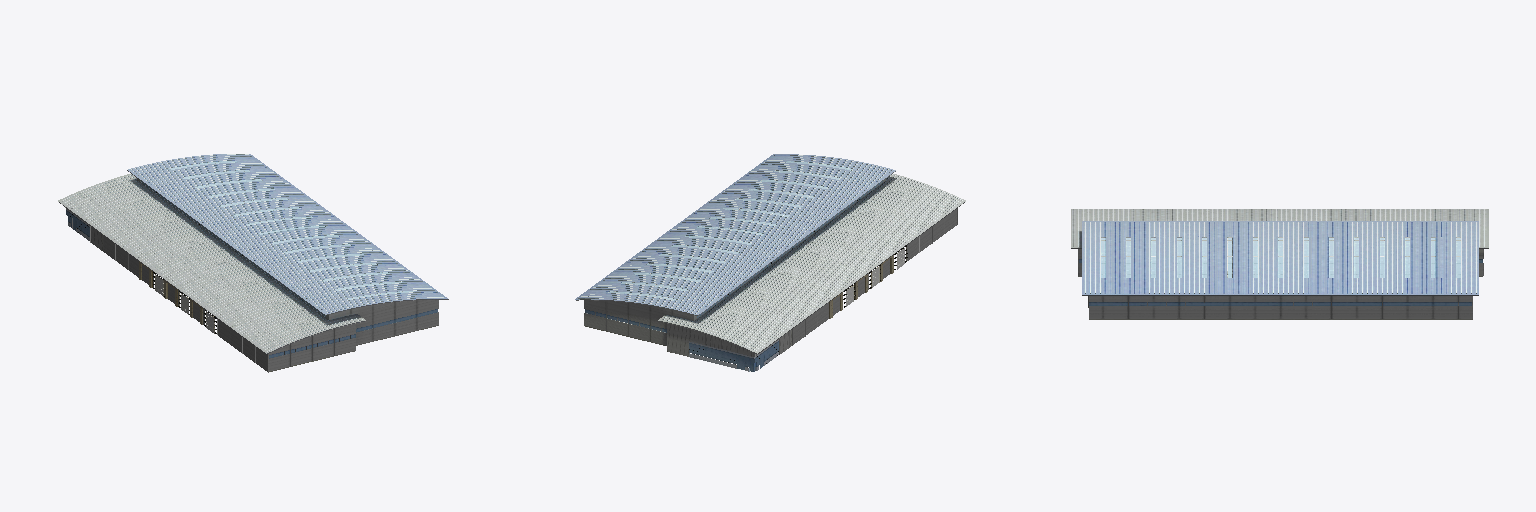
3 views of the same model, side by side, from view 1: azimuth 30°, elevation 25°; view 2: azimuth 150°, elevation 25°; view 3: azimuth 270°, elevation 25° (orthographic).
Parts seen in each view (by area): view 1: __, ____, __2; view 2: __, ____, __2; view 3: __, ____, __2.
Boxes of the visible parts, x1,y1,x2,y2 form: __: [58, 154, 448, 353]; ____: [63, 154, 443, 371]; __2: [103, 178, 438, 372]; __: [575, 154, 965, 353]; ____: [576, 155, 962, 371]; __2: [584, 179, 956, 345]; __: [1071, 209, 1488, 295]; ____: [1078, 209, 1484, 319]; __2: [1078, 249, 1472, 318].
Bounding box in the file's own units: 3590 × 771 × 6916.
Materials: 9 (9 with a texture image).